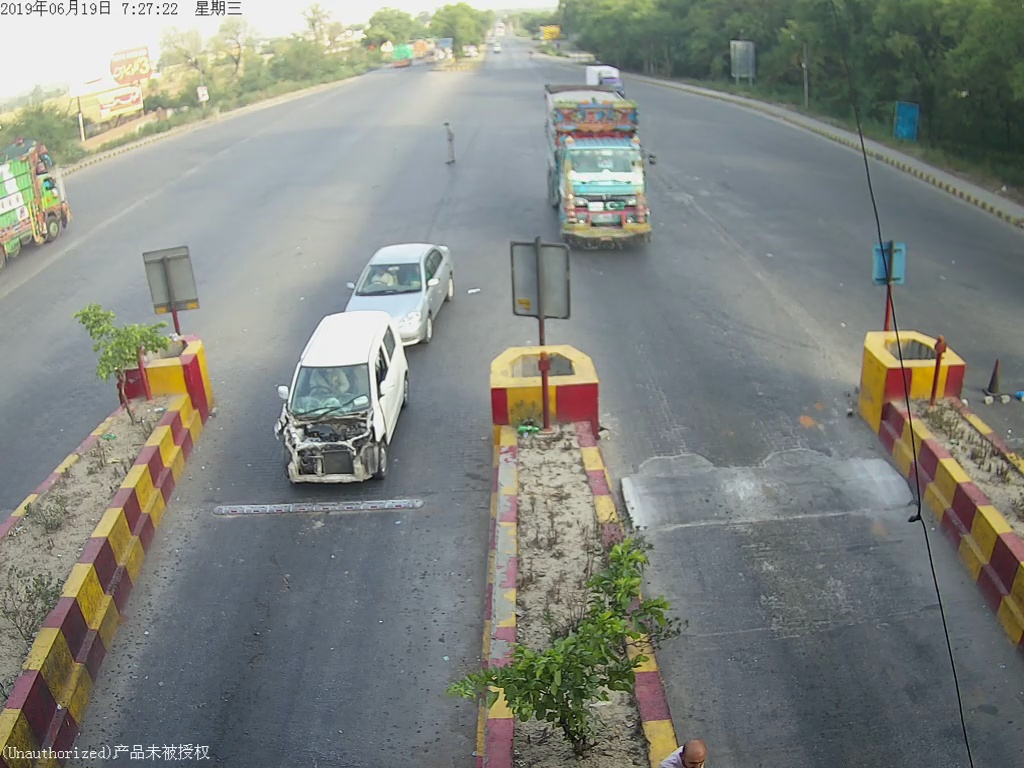Cat-1: (264, 310, 422, 490)
Cat-4: (541, 84, 662, 245)
